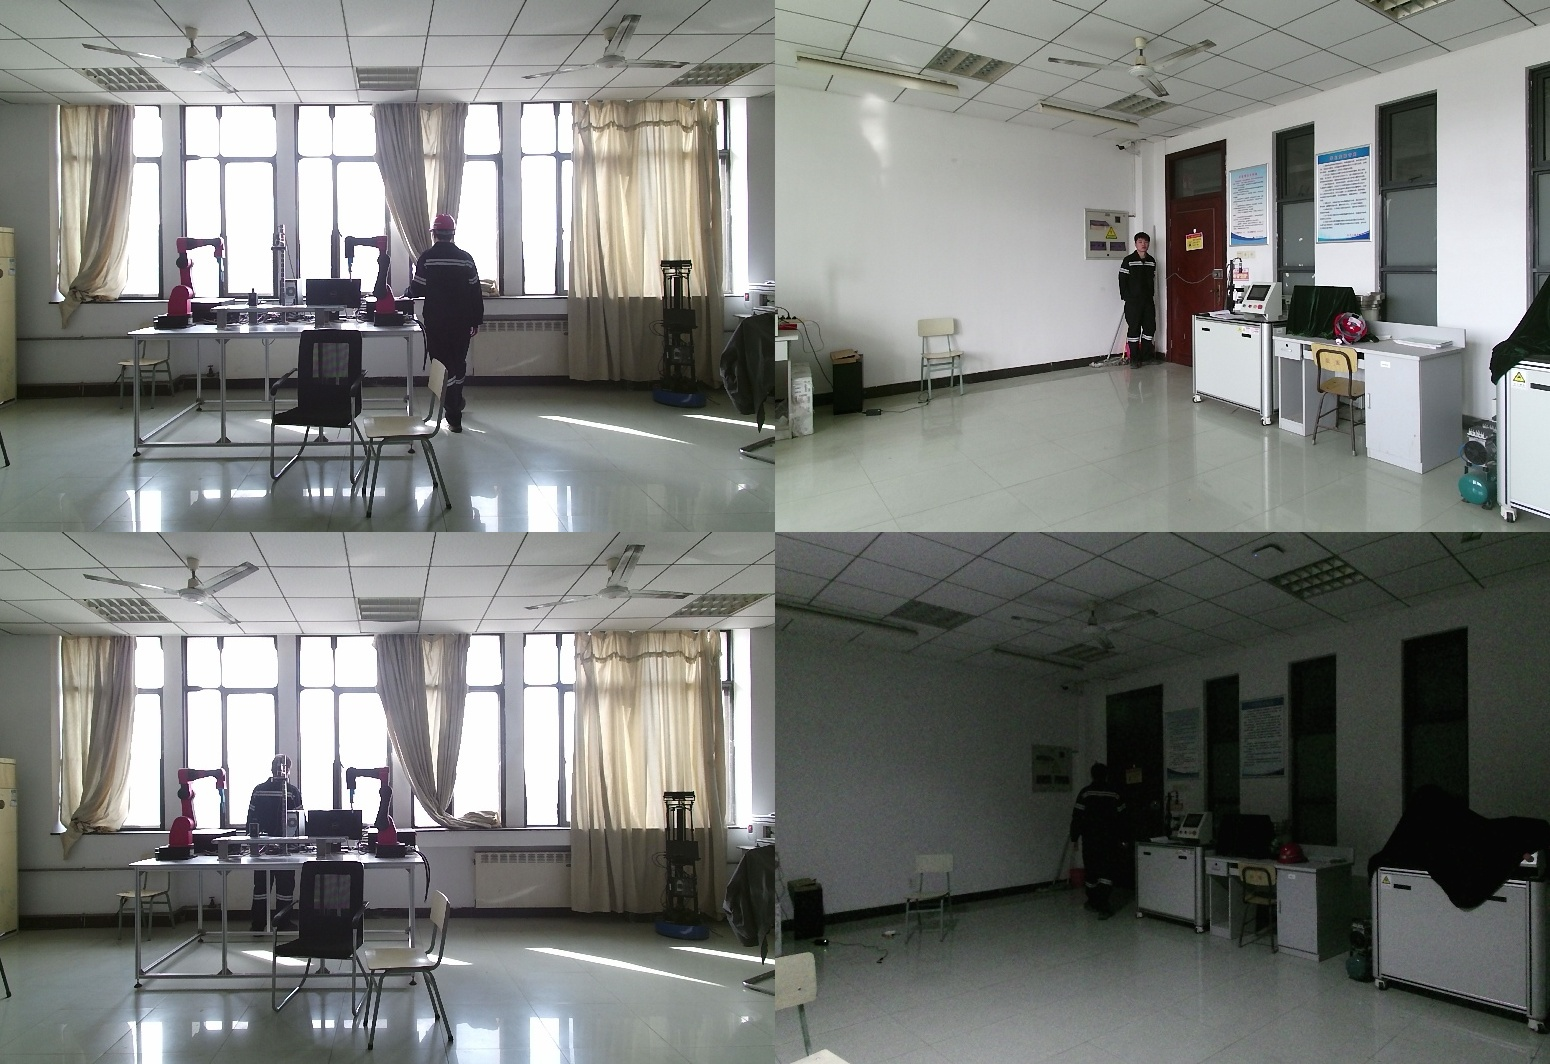person: (399, 215, 486, 432), (247, 756, 314, 948), (1070, 765, 1134, 926), (1119, 232, 1160, 372)
